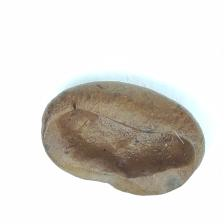NG: (42, 106, 196, 196)
